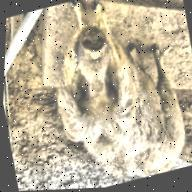boar: (31, 0, 192, 191)
